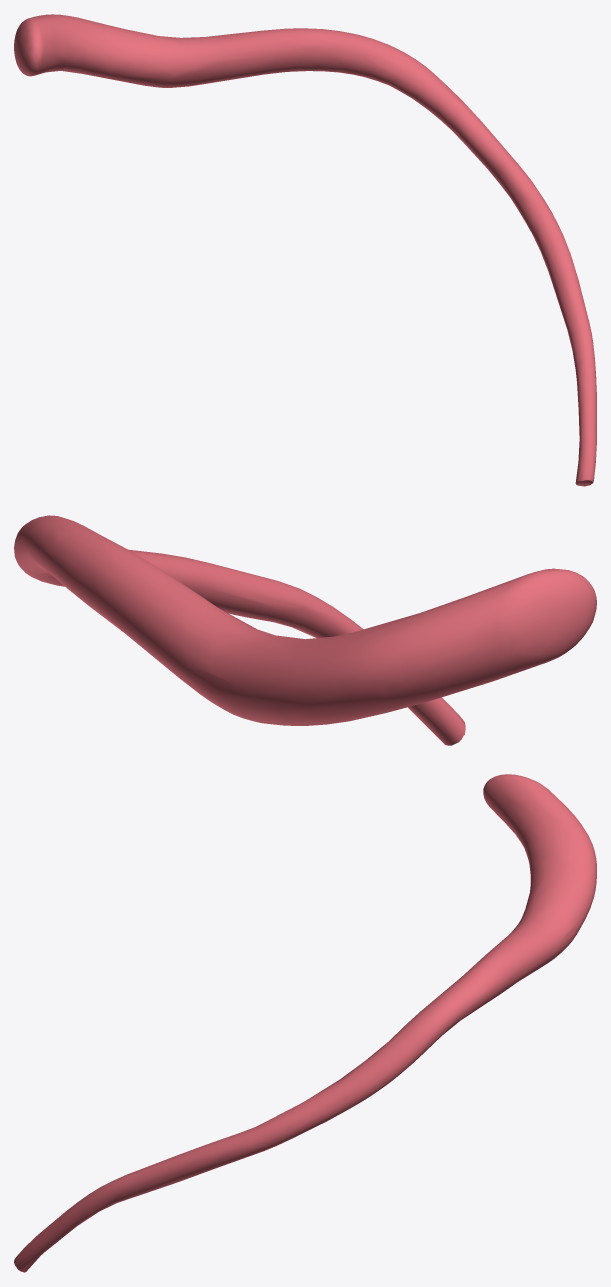
File: fma44888_fj2124.glb
3 views of the same model, one above another, from view 1: azimuth 30°, elevation 25°; view 2: azimuth 150°, elevation 25°; view 3: azimuth 270°, elevation 25° (orthographic). The views are drawn at different scales.
Parts seen in each view (by area): view 1: FMA44888_FJ2124; view 2: FMA44888_FJ2124; view 3: FMA44888_FJ2124.
Boxes of the visible parts, <box> form: FMA44888_FJ2124: <box>14,14,596,486</box>; FMA44888_FJ2124: <box>14,515,596,745</box>; FMA44888_FJ2124: <box>14,774,596,1272</box>.
Bounding box in the file's own units: 0.038 × 0.0318 × 0.0479.
